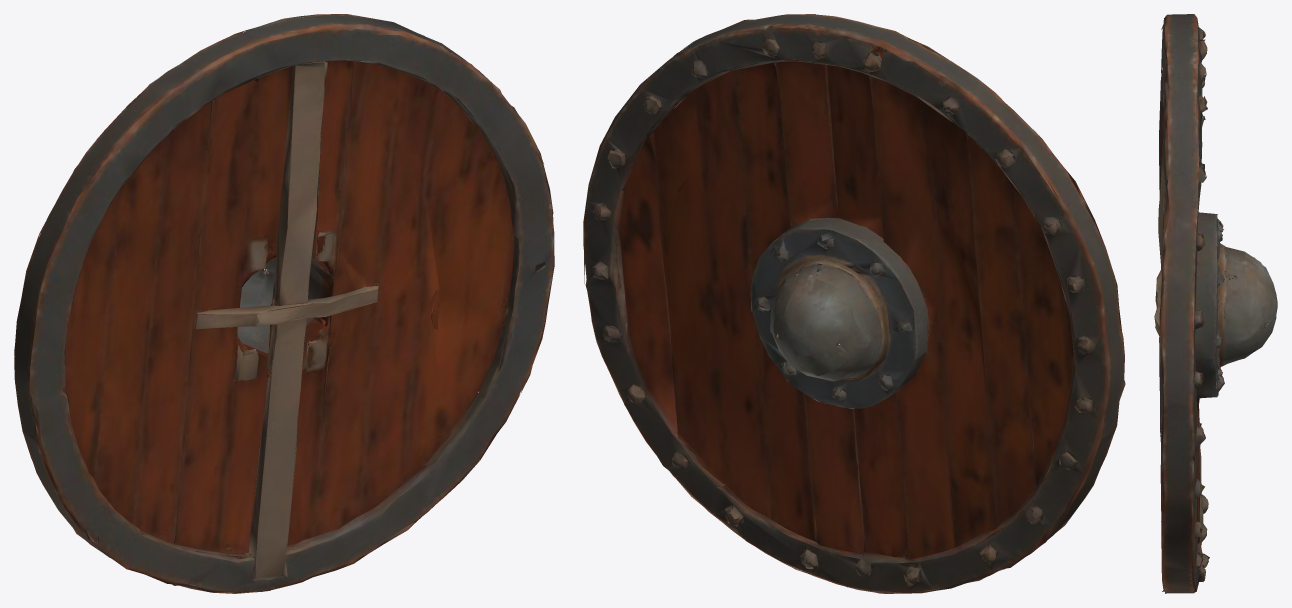
File: тип-щит.glb
3 renders of one model, left to right at view 1: azimuth 30°, elevation 25°; view 2: azimuth 150°, elevation 25°; view 3: azimuth 270°, elevation 25°, orthographic. The views are drawn at different scales.
Parts seen in each view (by area): view 1: тип-щит; view 2: тип-щит; view 3: тип-щит.
Boxes of the visible parts, <box> form: тип-щит: <box>14,14,554,593</box>; тип-щит: <box>583,14,1125,593</box>; тип-щит: <box>1154,14,1277,593</box>.
Size of the model in its own units: 0.6153 by 0.6206 by 0.1318.
Materials: 1 (1 with a texture image).
